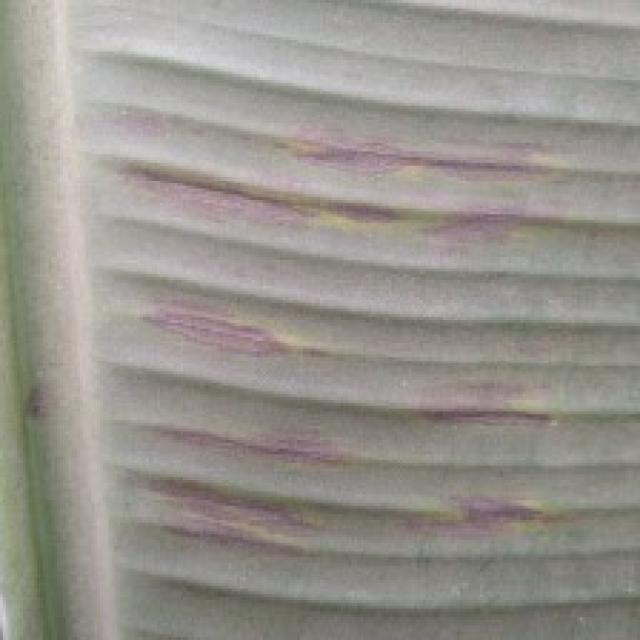Early_leaf_spot: (272, 108, 574, 192), (112, 138, 311, 238), (132, 459, 324, 558), (138, 285, 317, 377), (390, 354, 570, 441), (166, 408, 372, 472), (409, 174, 541, 255), (420, 483, 560, 541), (99, 84, 199, 150), (310, 177, 406, 240)
